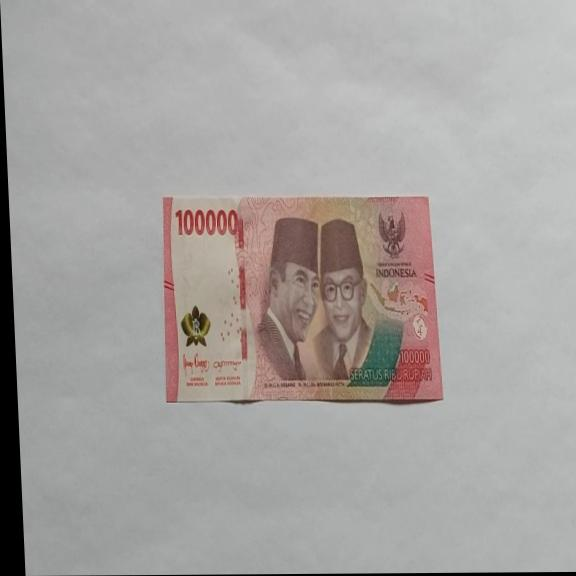Kertas: (157, 192, 444, 405), (174, 205, 240, 238)
